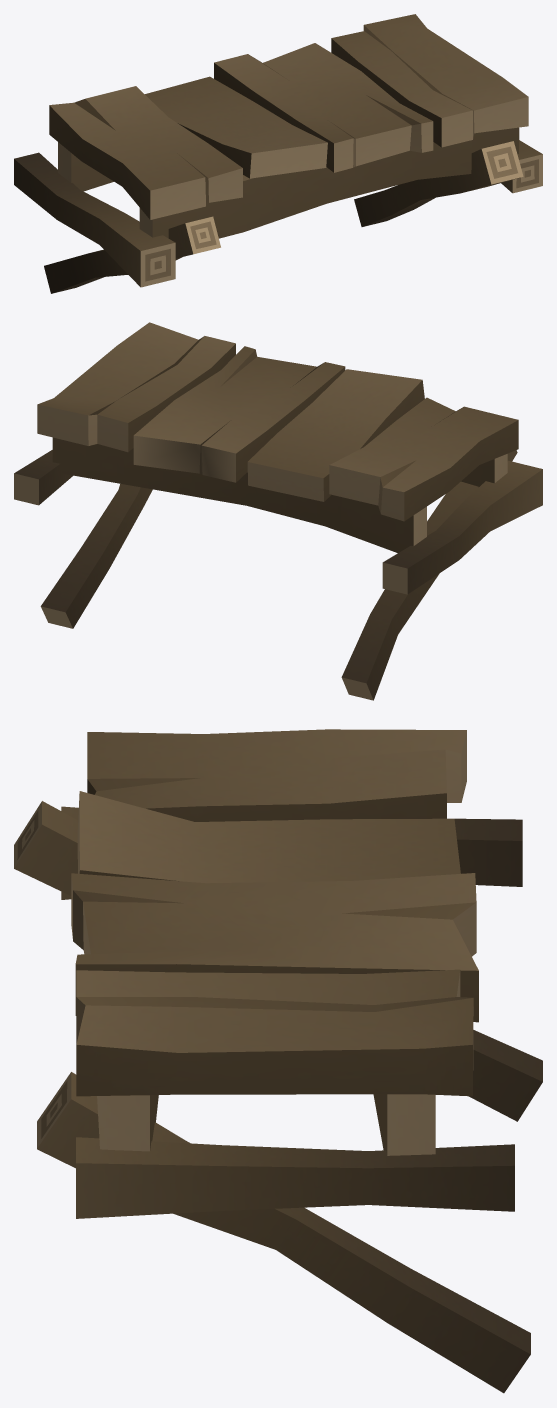
The model's file is scaffolding_1x2_wall_mounted.fbx.
The picture shows the model from 3 angles, top to bottom: view 1: azimuth 30°, elevation 25°; view 2: azimuth 150°, elevation 25°; view 3: azimuth 270°, elevation 25°; orthographic projection. The views are drawn at different scales.
Visible parts, largest first — view 1: scaffolding_1x2_wall_mounted; view 2: scaffolding_1x2_wall_mounted; view 3: scaffolding_1x2_wall_mounted.
Boxes of the visible parts, <box> form: scaffolding_1x2_wall_mounted: <box>14,14,542,293</box>; scaffolding_1x2_wall_mounted: <box>14,322,542,700</box>; scaffolding_1x2_wall_mounted: <box>14,729,542,1393</box>.
Size of the model in its own units: 213 by 109 by 137.
